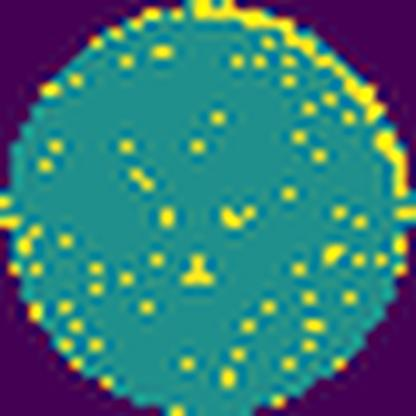Edge-Loc: (180, 0, 385, 123), (378, 131, 411, 198)
